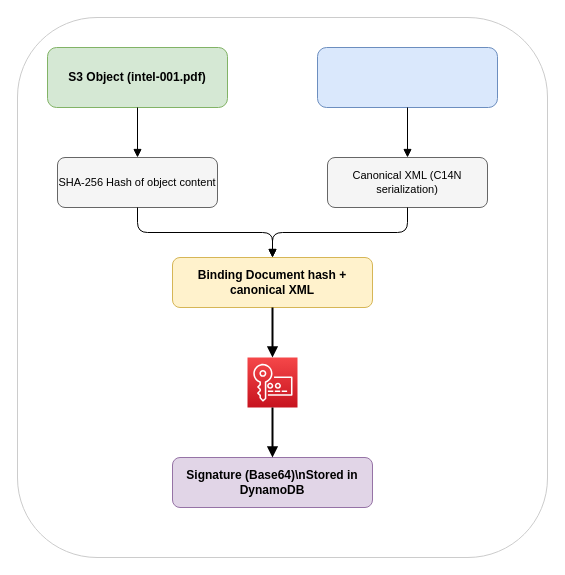
Some shapes in this 565 by 575 pixel diagram are drawn without their labels. The centre of each missing label's shape, as x and y in pixels:
KMS Sign (RSA)<br>RSASSA_PKCS1_V1_5_SHA_256: point 272,382
STANAG 4774 Label (XML document): point 407,77
